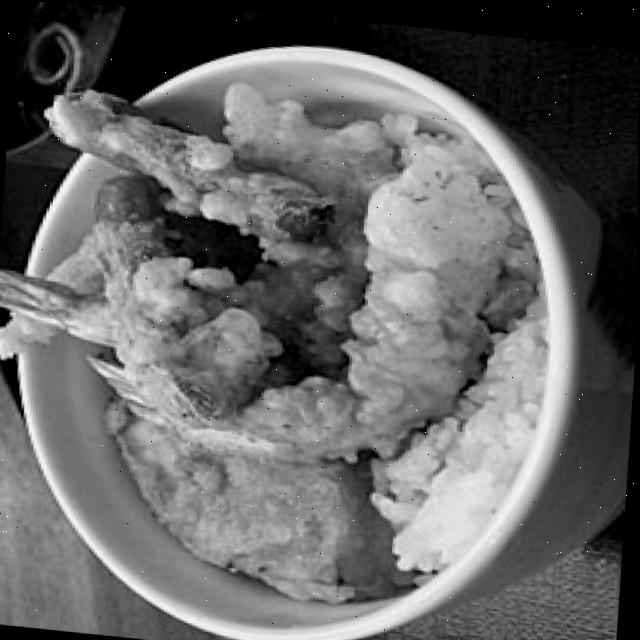熟制海鲜: (0, 6, 614, 640)
